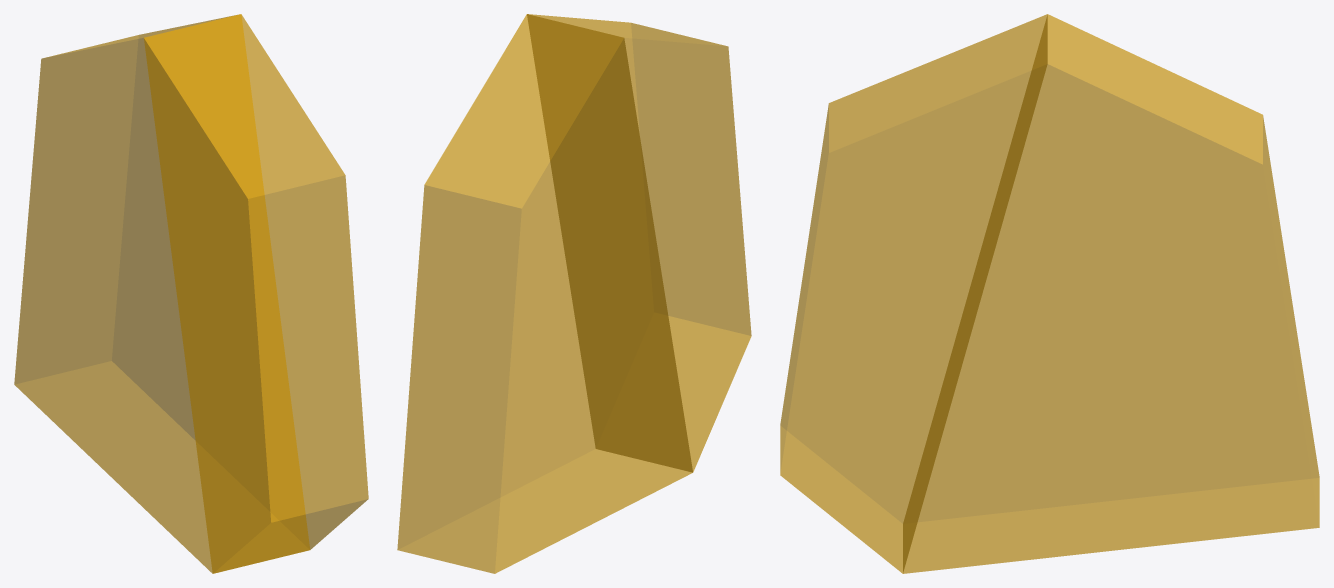
Rendered from SM_Veh_Ship_S_Rudder_01_Collision.fbx.
The picture shows the model from 3 angles, left to right: view 1: azimuth 30°, elevation 25°; view 2: azimuth 150°, elevation 25°; view 3: azimuth 270°, elevation 25°; orthographic projection. The views are drawn at different scales.
Visible parts, largest first — view 1: SM_Veh_Ship_S_Rudder_01_Collision; view 2: SM_Veh_Ship_S_Rudder_01_Collision; view 3: SM_Veh_Ship_S_Rudder_01_Collision.
Boxes of the visible parts, x1=… form: SM_Veh_Ship_S_Rudder_01_Collision: x1=14, y1=14, x2=368, y2=573; SM_Veh_Ship_S_Rudder_01_Collision: x1=397, y1=14, x2=751, y2=573; SM_Veh_Ship_S_Rudder_01_Collision: x1=780, y1=14, x2=1319, y2=573.
Bounding box in the file's own units: 49.72 × 237 × 227.
